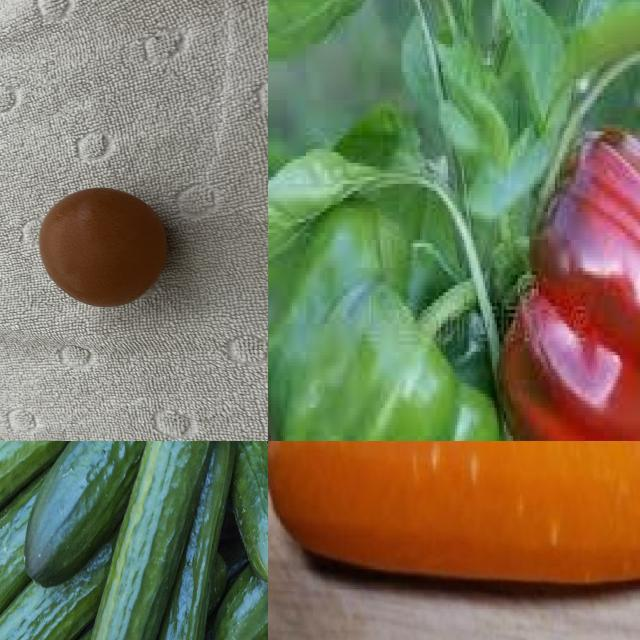bell_pepper: (269, 258, 513, 442), (508, 125, 640, 442)
carrot: (269, 442, 640, 598)
cucumber: (63, 442, 237, 640), (20, 442, 188, 588), (144, 442, 235, 640), (1, 442, 91, 640), (1, 532, 109, 640), (227, 442, 269, 585)
egg: (34, 187, 174, 313)
